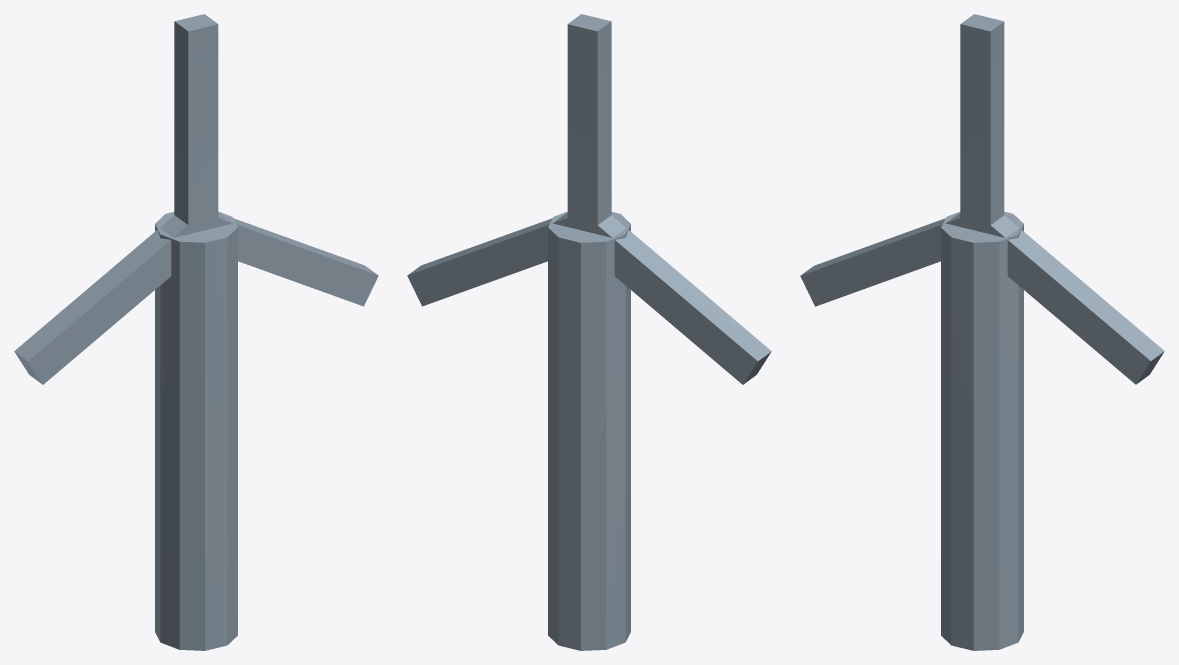
The model's file is wind_turbine-02.glb.
3 renders of one model, left to right at view 1: azimuth 30°, elevation 25°; view 2: azimuth 150°, elevation 25°; view 3: azimuth 330°, elevation 25°, orthographic.
Visible parts, largest first — view 1: world; view 2: world; view 3: world.
Boxes of the visible parts, left/top/right/bottom form: world: left=14, top=14, right=378, bottom=650; world: left=407, top=14, right=771, bottom=650; world: left=800, top=14, right=1164, bottom=650.
Bounding box in the file's own units: 1.17 × 1.94 × 0.2283.
